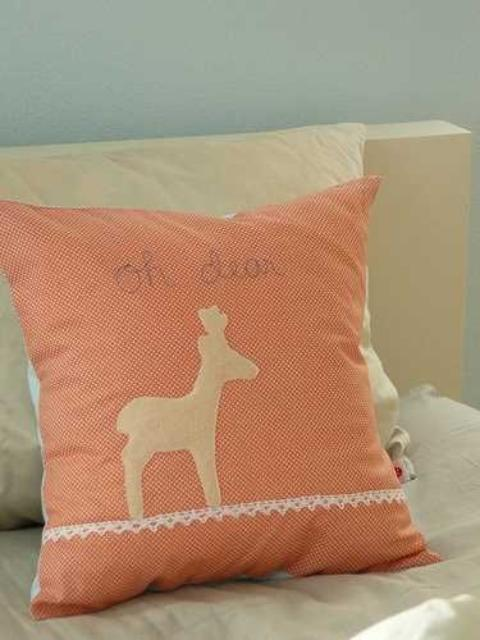pillow: (0, 172, 442, 620)
